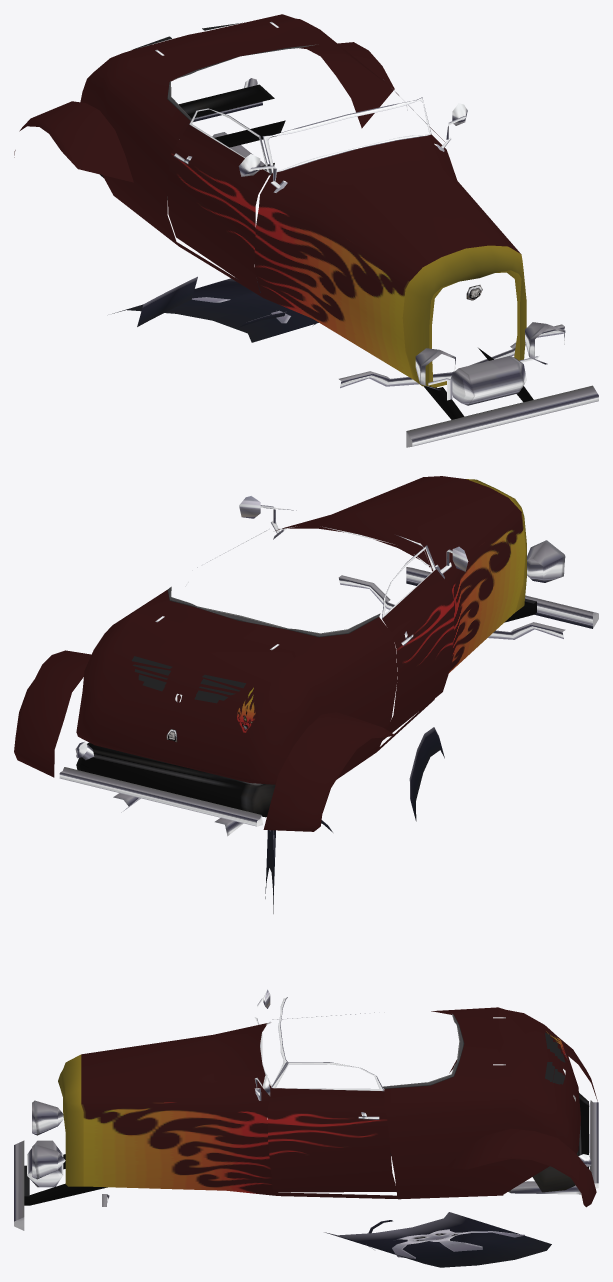
File: car-HSPC_Car23.glb
3 renders of one model, top to bottom at view 1: azimuth 30°, elevation 25°; view 2: azimuth 150°, elevation 25°; view 3: azimuth 270°, elevation 25°, orthographic. The views are drawn at different scales.
Visible parts, largest first — view 1: HSPC_Car23; view 2: HSPC_Car23; view 3: HSPC_Car23.
Boxes of the visible parts, x1,y1,x2,y2 form: HSPC_Car23: (14,14,598,447); HSPC_Car23: (14,476,598,913); HSPC_Car23: (14,989,598,1267).
Size of the model in its own units: 2.22 by 2.04 by 4.14.
10 materials, 10 textured.
